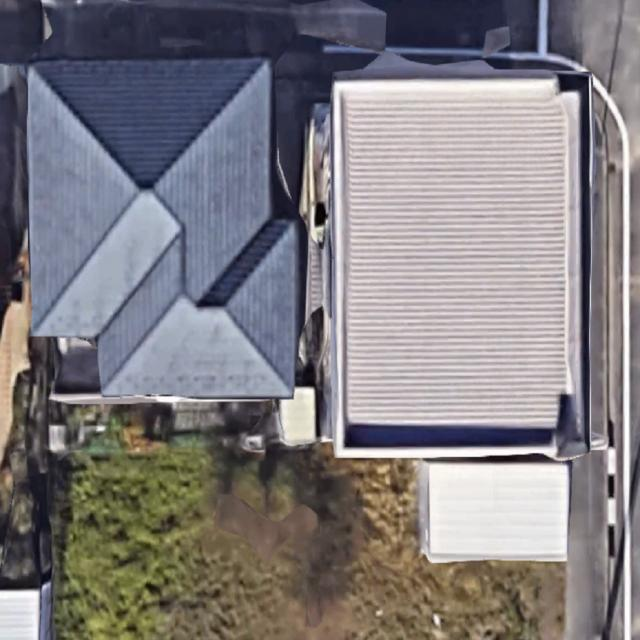Batiment: (28, 58, 300, 397), (341, 80, 570, 428), (420, 460, 570, 562)
